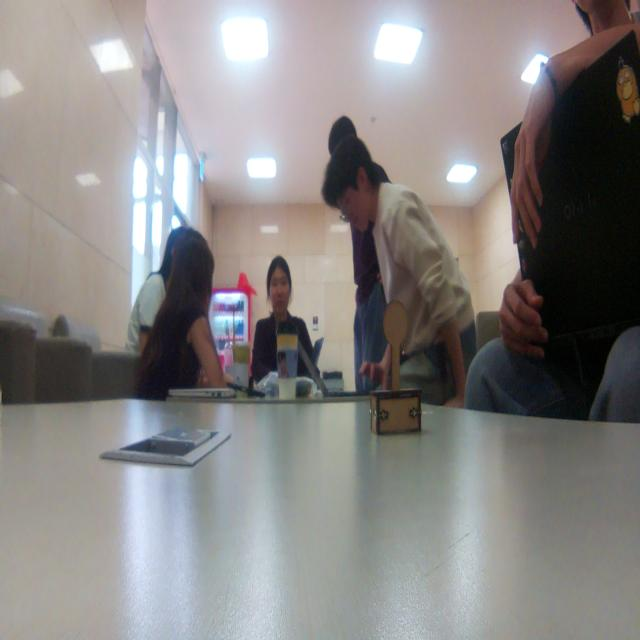target: (370, 299, 422, 436)
